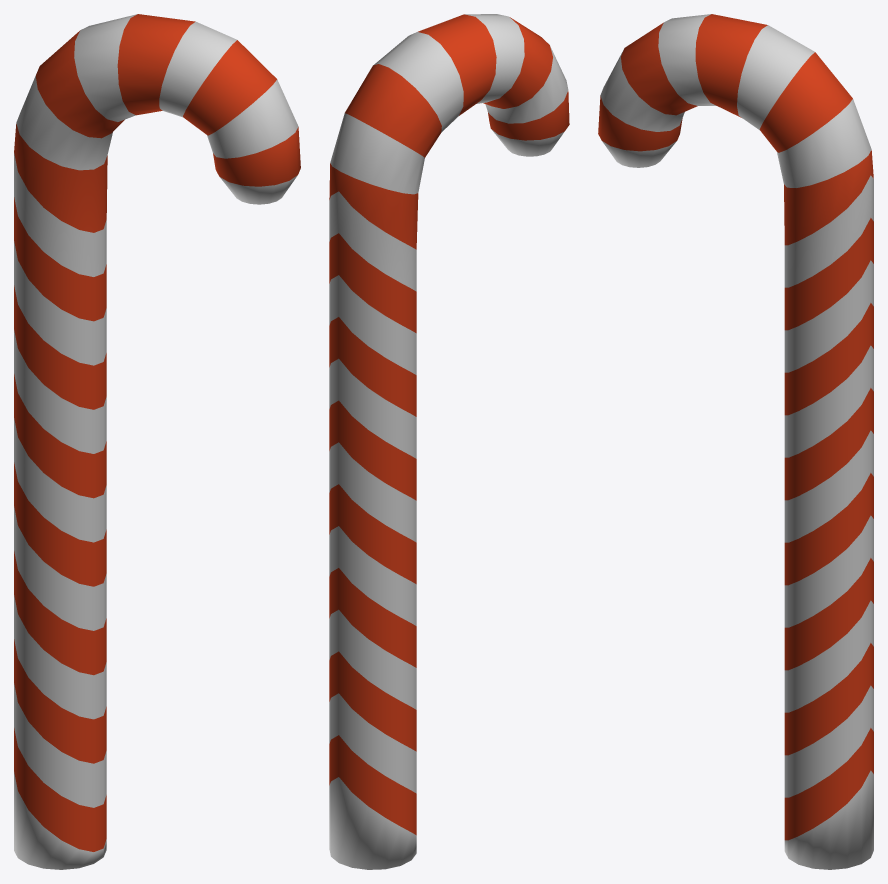
The model's file is candy_cane_wr2.fbx.
3 views of the same model, side by side, from view 1: azimuth 90°, elevation 25°; view 2: azimuth 150°, elevation 25°; view 3: azimuth 270°, elevation 25° (orthographic). The views are drawn at different scales.
Parts seen in each view (by area): view 1: Cylinder; view 2: Cylinder; view 3: Cylinder.
Boxes of the visible parts, <box> form: Cylinder: <box>14,14,300,869</box>; Cylinder: <box>329,14,569,869</box>; Cylinder: <box>598,14,873,869</box>.
Size of the model in its own units: 345 by 1913 by 588.
